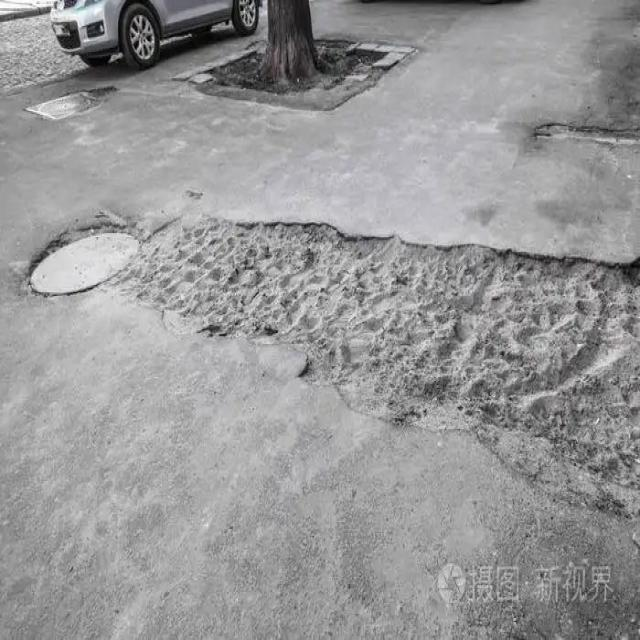Pothole: (149, 215, 639, 503), (27, 222, 142, 304), (534, 123, 639, 152), (24, 89, 118, 121)
